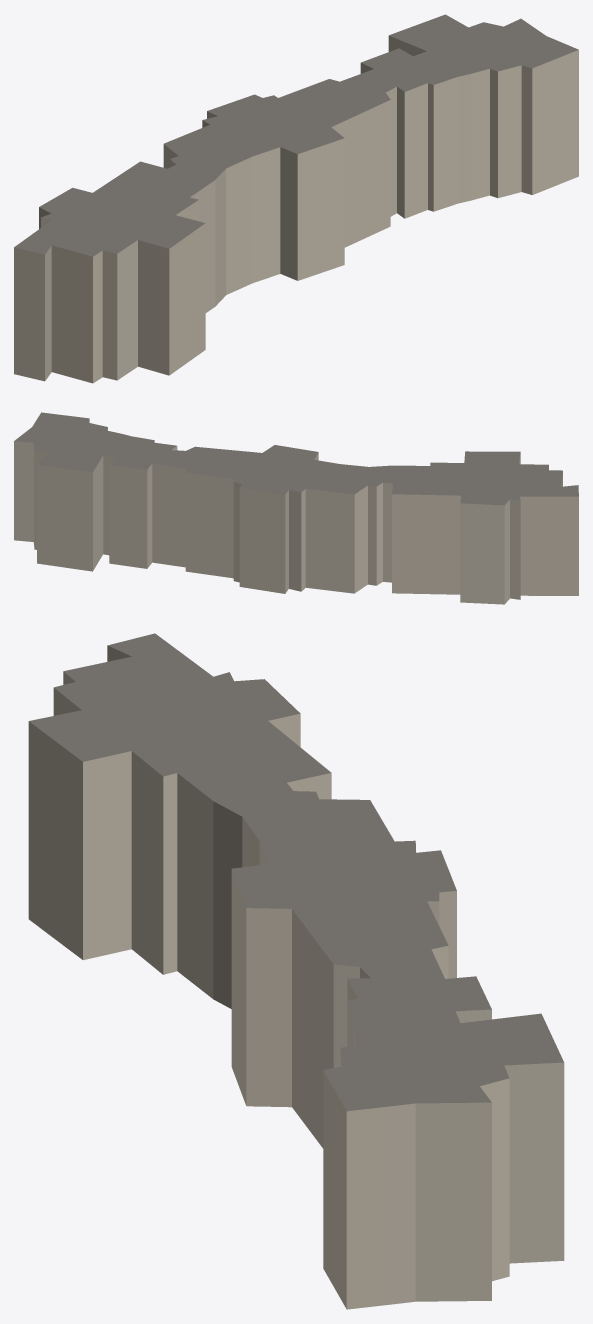
3 renders of one model, top to bottom at view 1: azimuth 30°, elevation 25°; view 2: azimuth 150°, elevation 25°; view 3: azimuth 270°, elevation 25°, orthographic. The views are drawn at different scales.
Parts seen in each view (by area): view 1: HP-w1512530040; view 2: HP-w1512530040; view 3: HP-w1512530040.
Part boxes in pixels (x1,y1,x2,y2): HP-w1512530040: (14,14,578,383); HP-w1512530040: (14,412,578,604); HP-w1512530040: (28,633,564,1309).
Bounding box in the file's own units: 93.05 × 18 × 44.06.
